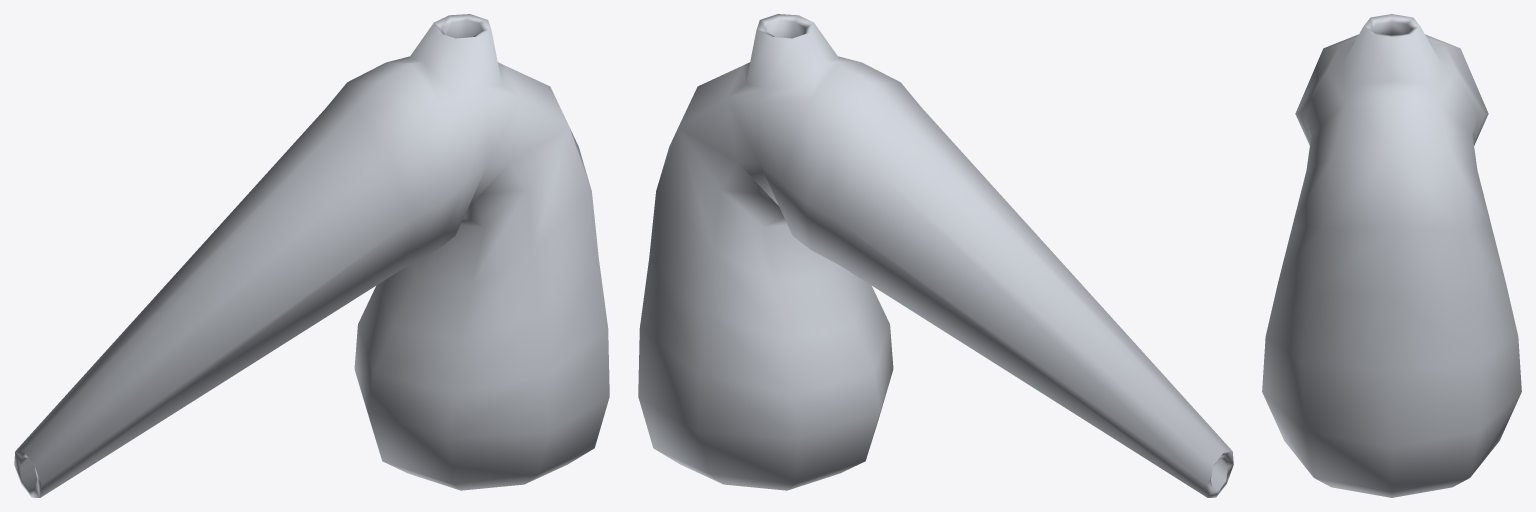
Rendered from bottle_glassware_retort_flask_medium.fbx.
3 renders of one model, left to right at view 1: azimuth 30°, elevation 25°; view 2: azimuth 150°, elevation 25°; view 3: azimuth 270°, elevation 25°, orthographic.
Parts seen in each view (by area): view 1: bottle_glassware_retort_flask_medium; view 2: bottle_glassware_retort_flask_medium; view 3: bottle_glassware_retort_flask_medium.
Boxes of the visible parts, x1,y1,x2,y2 form: bottle_glassware_retort_flask_medium: (14, 14, 609, 497); bottle_glassware_retort_flask_medium: (638, 14, 1233, 497); bottle_glassware_retort_flask_medium: (1262, 14, 1521, 497).
Bounding box in the file's own units: 2664 × 1984 × 1061.
Materials: 1 (1 with a texture image).
